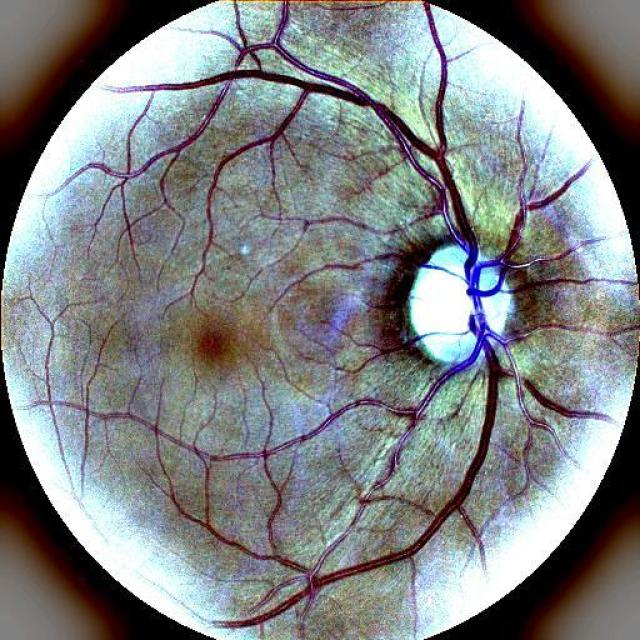Macula: (194, 321, 235, 366)
Nerves: (370, 9, 539, 552), (409, 4, 542, 470), (270, 35, 439, 185), (359, 94, 421, 172), (111, 70, 300, 89)
Optic Disk: (408, 244, 475, 366), (482, 282, 514, 334)
